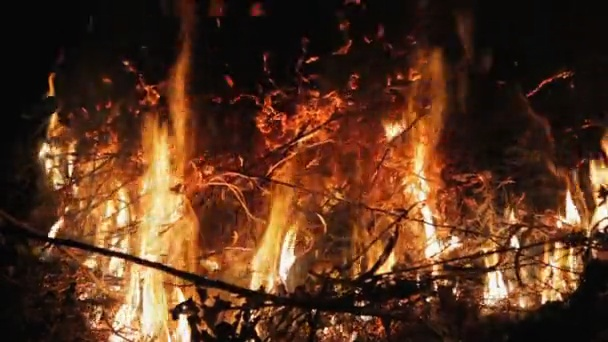fire: (70, 47, 205, 342), (405, 148, 465, 274), (249, 194, 296, 289), (560, 139, 608, 230), (37, 112, 80, 189), (537, 244, 583, 306), (483, 249, 505, 310), (384, 119, 406, 138), (49, 219, 65, 238), (510, 236, 519, 245)
